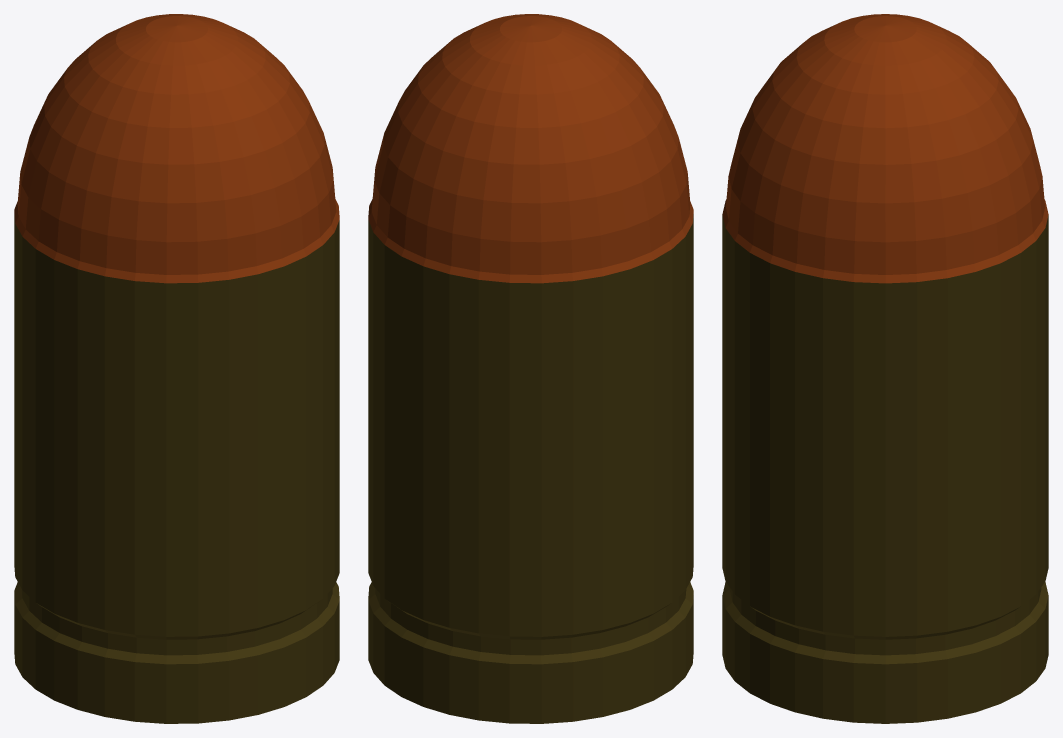
Rendered from bullet.gltf.
3 renders of one model, left to right at view 1: azimuth 30°, elevation 25°; view 2: azimuth 150°, elevation 25°; view 3: azimuth 270°, elevation 25°, orthographic.
Visible parts, largest first — view 1: Sphere; view 2: Sphere; view 3: Sphere.
Boxes of the visible parts, <box> form: Sphere: <box>14,14,339,723</box>; Sphere: <box>368,14,693,723</box>; Sphere: <box>722,14,1048,723</box>.
Bounding box in the file's own units: 2 × 4.26 × 2.
